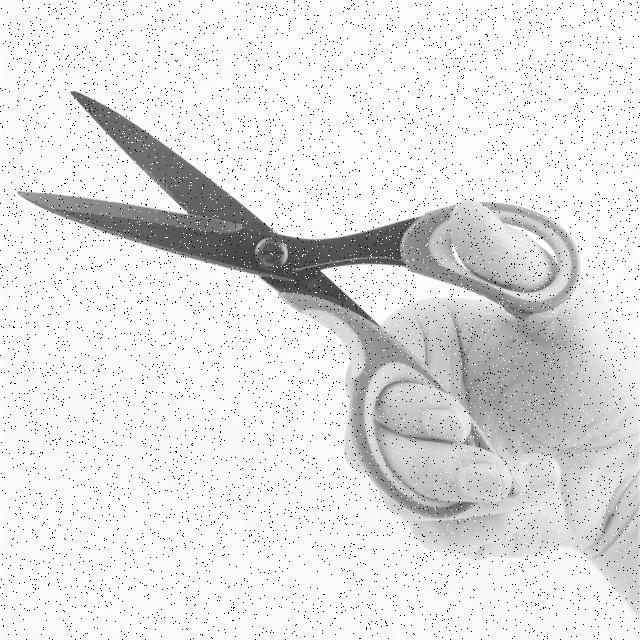scissors: (9, 86, 588, 528)
